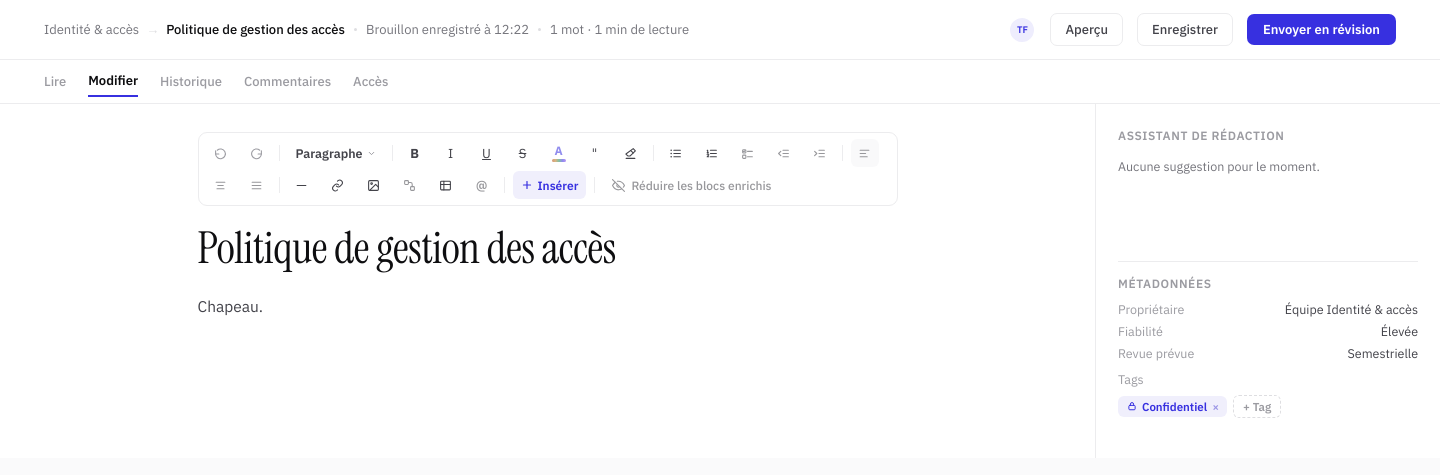
Scenario: DocumentEditPage — assistant et métadonnées › tag de gouvernance : retrait possible pour un propriétaire, erreur 409 affichée
The image size is (1440, 475).
What coordinates should you click on to do the following:
click the button named "Retirer le tag Confidentiel"
I would click on:
 (1216, 406)
Its box is top-left (1212, 399), bottom-right (1219, 414).
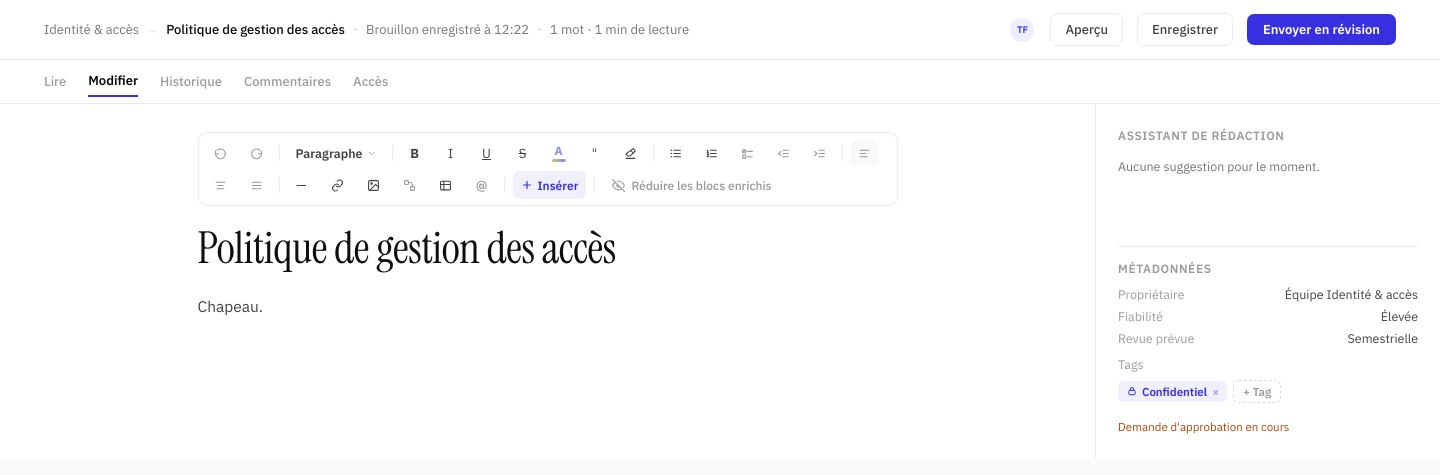
expect the message with test id "tag-error" reads "Demande d'approbation en cours": met, box top-left (1118, 419), bottom-right (1290, 434)
